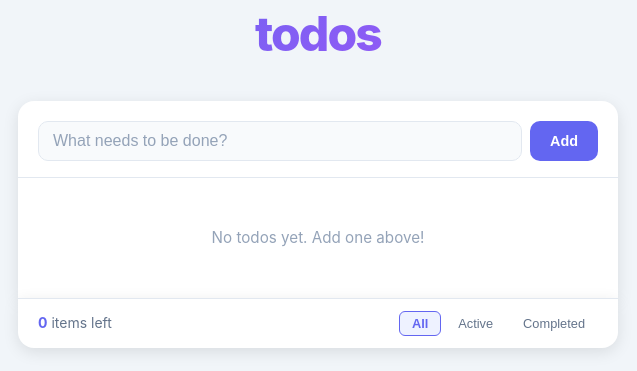
Test: App › adding todos › hides the empty state message after adding a todo
Type "Task" into the field named "new todo text" at {"x": 280, "y": 141}, box [38,121,522,161]
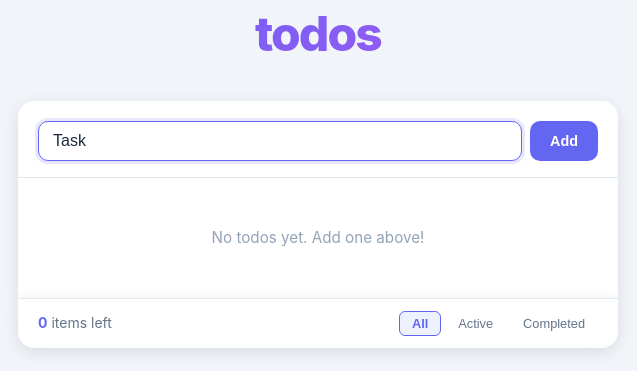
Click the button with aria-label "add todo" at {"x": 564, "y": 141}, box [530,121,598,161]
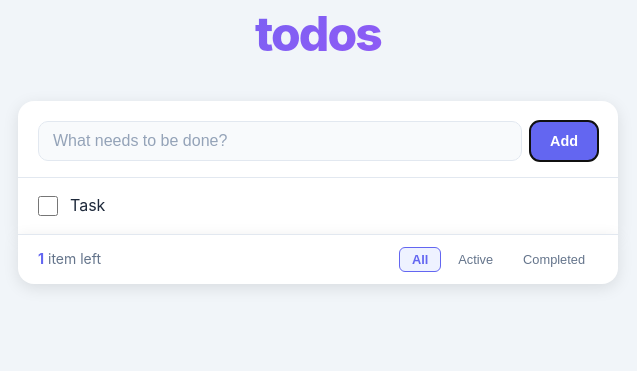
Now the text "No todos yet" is gone
